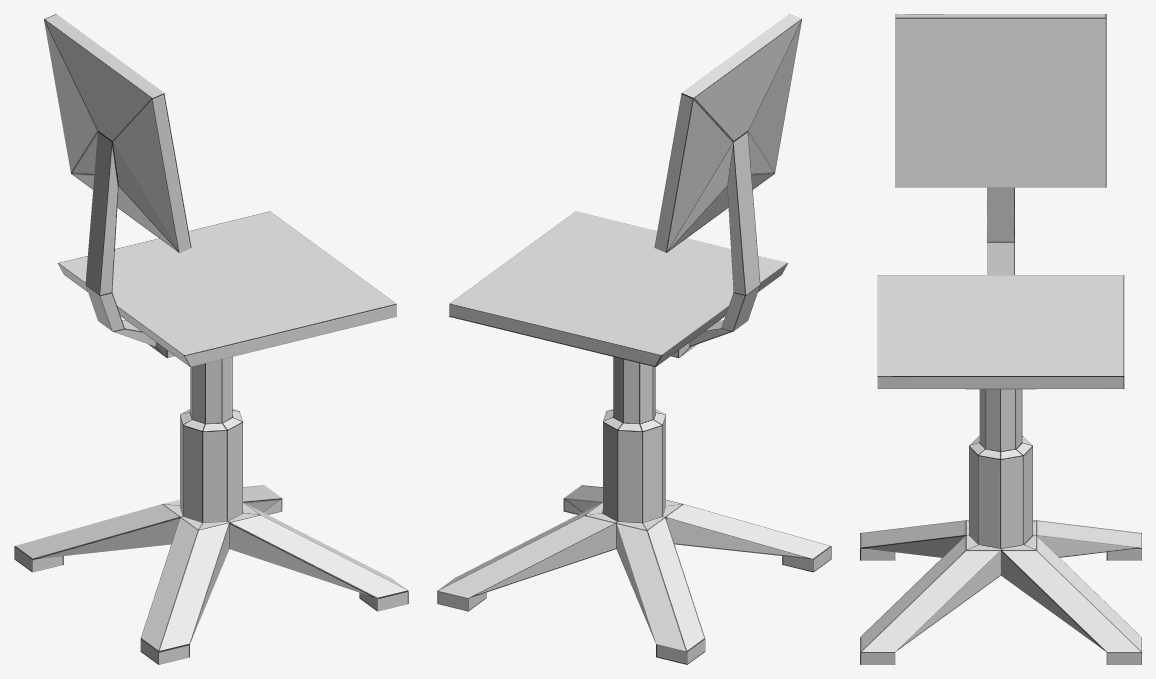
File: Chair.obj
The picture shows the model from 3 angles, left to right: view 1: azimuth 30°, elevation 25°; view 2: azimuth 150°, elevation 25°; view 3: azimuth 270°, elevation 25°; orthographic projection. The views are drawn at different scales.
Parts seen in each view (by area): view 1: Cube.003_Cube.007; view 2: Cube.003_Cube.007; view 3: Cube.003_Cube.007.
Boxes of the visible parts, x1,y1,x2,y2 form: Cube.003_Cube.007: (14, 14, 408, 664); Cube.003_Cube.007: (437, 14, 831, 664); Cube.003_Cube.007: (860, 14, 1141, 664).
Size of the model in its own units: 0.4 by 0.8448 by 0.4.
